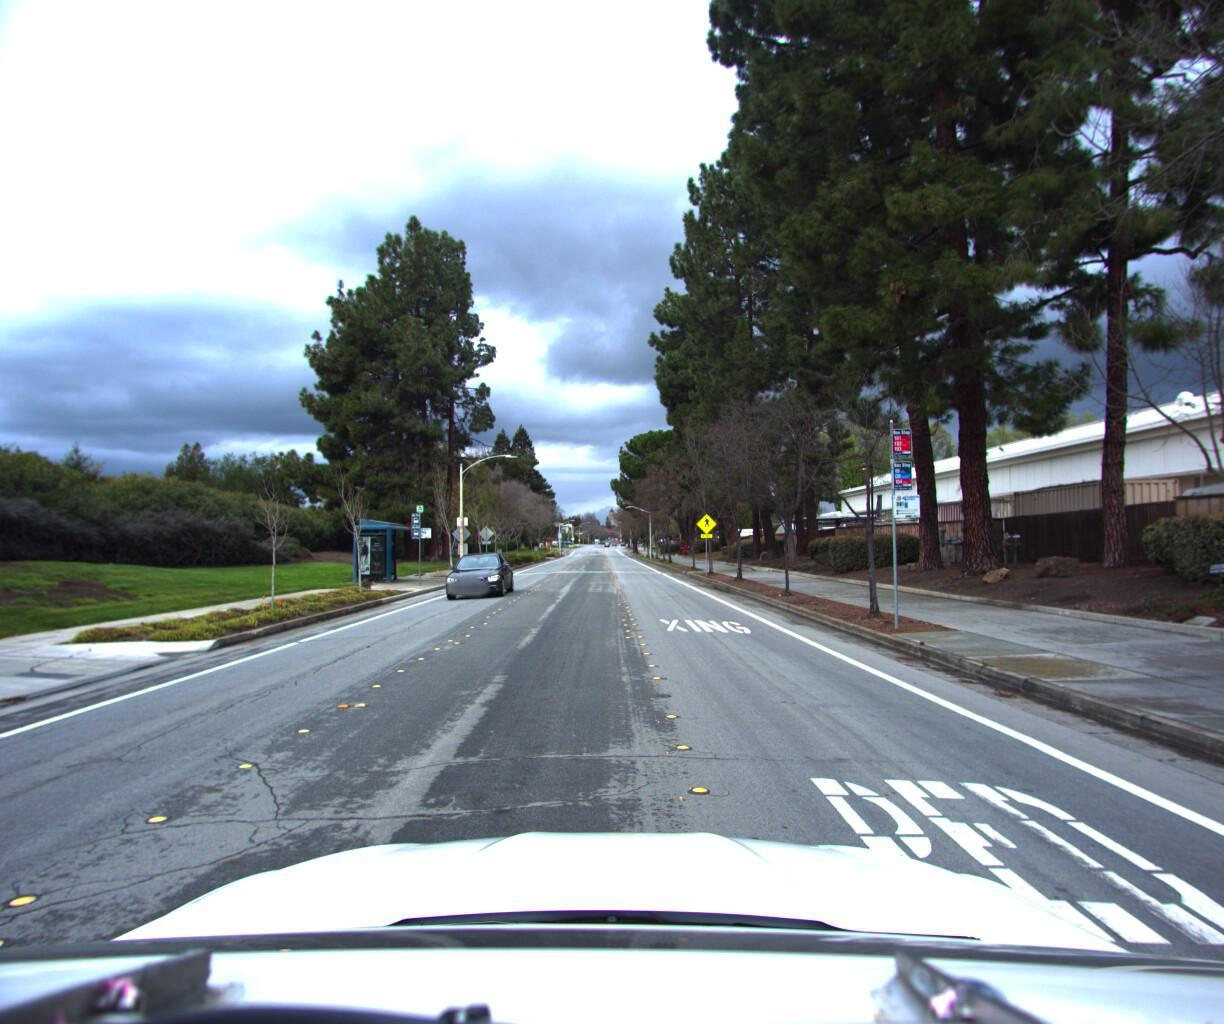car: (443, 546, 517, 602)
truck: (1171, 439, 1224, 575)
